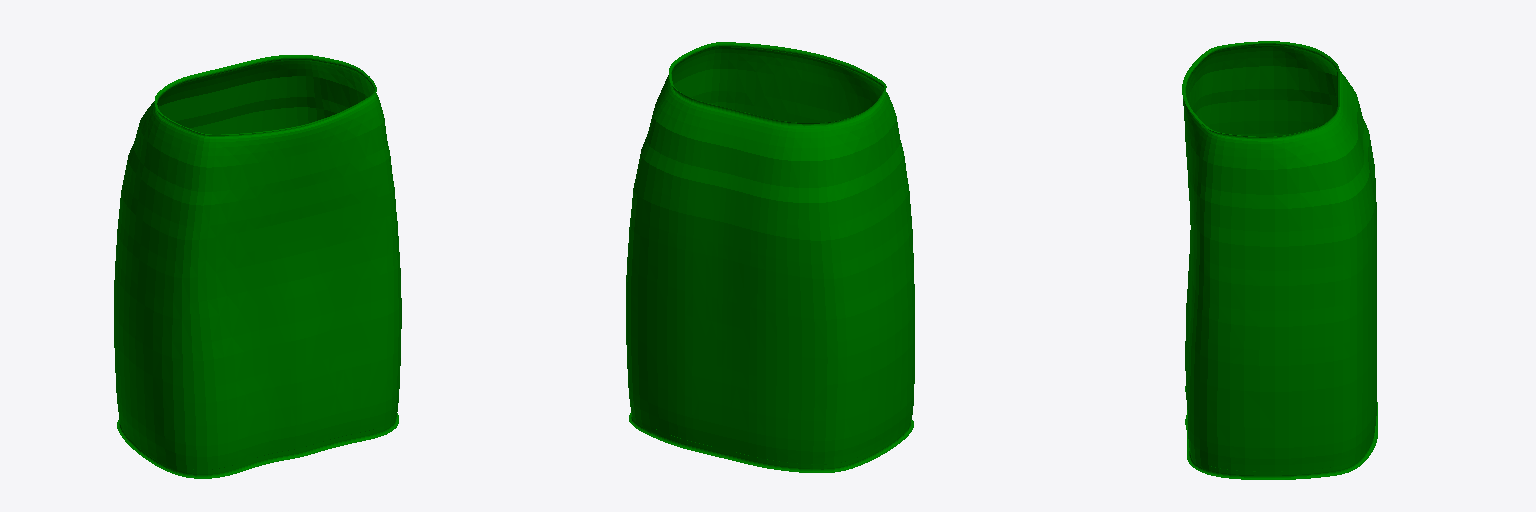
The model's file is medium_skirt.obj.
The picture shows the model from 3 angles: view 1: azimuth 30°, elevation 25°; view 2: azimuth 150°, elevation 25°; view 3: azimuth 270°, elevation 25°; orthographic projection.
Parts seen in each view (by area): view 1: A3skirt01; view 2: A3skirt01; view 3: A3skirt01.
Part boxes in pixels (x1,y1,x2,y2): A3skirt01: (114, 55, 401, 478); A3skirt01: (626, 42, 914, 472); A3skirt01: (1182, 41, 1377, 479).
Bounding box in the file's own units: 0.2646 × 0.3419 × 0.1815.